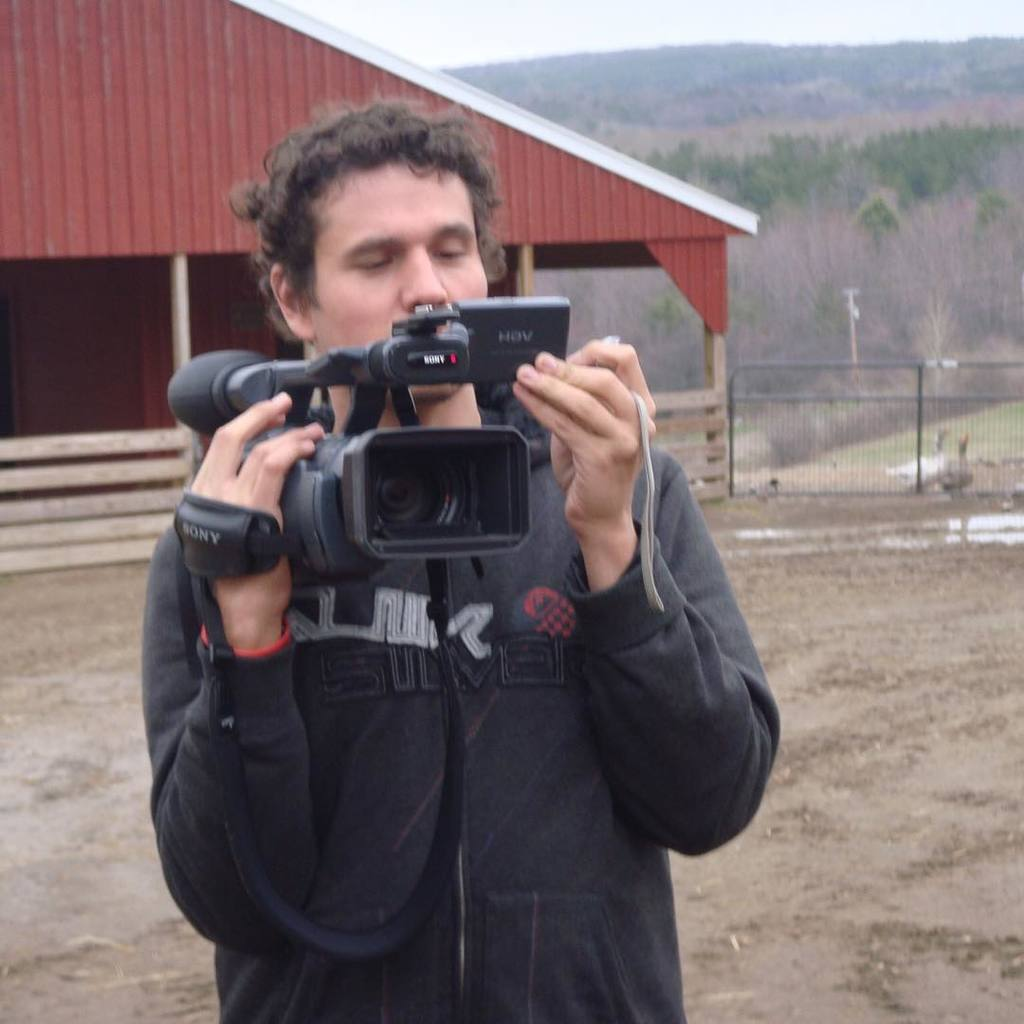Person: (141, 98, 780, 1023)
